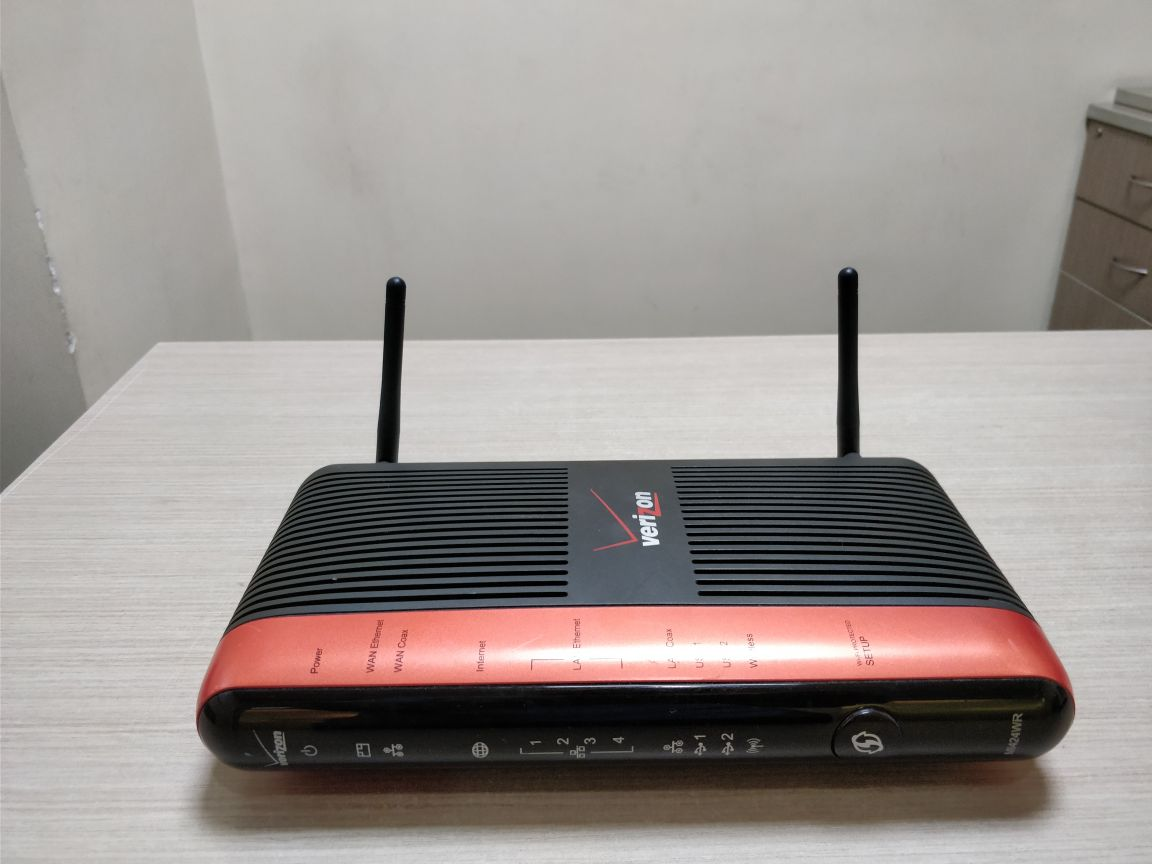Verizon Router: (187, 284, 1108, 850)
